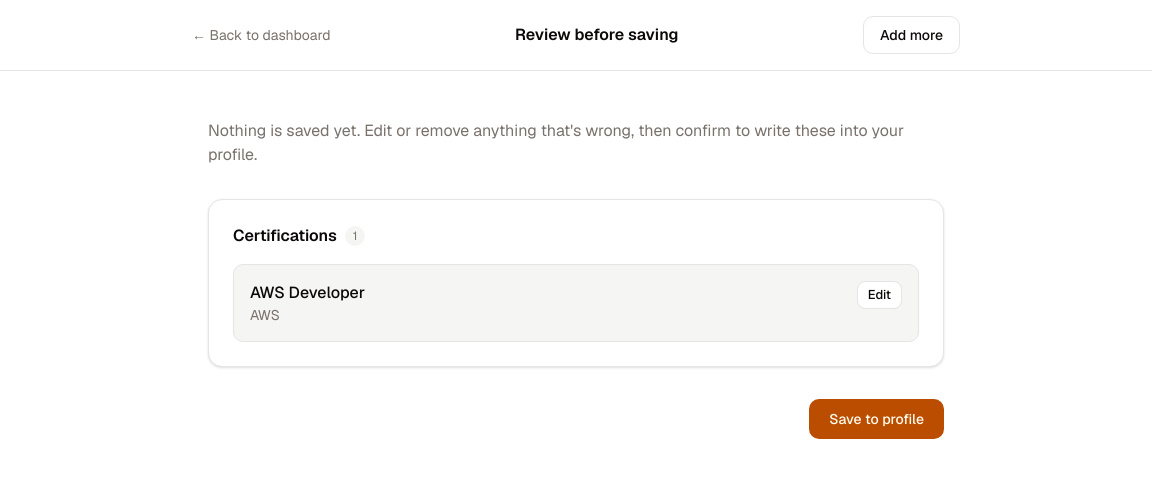
Test case: OnboardingReviewPage › shows the confirm endpoint's error message and keeps the pending entries when persisting fails
The image size is (1152, 492).
Check: the text "AWS Developer" is shown, box [250,281,365,305]
Click the button "Save to profile" at (877, 419), box [809,399,944,439]
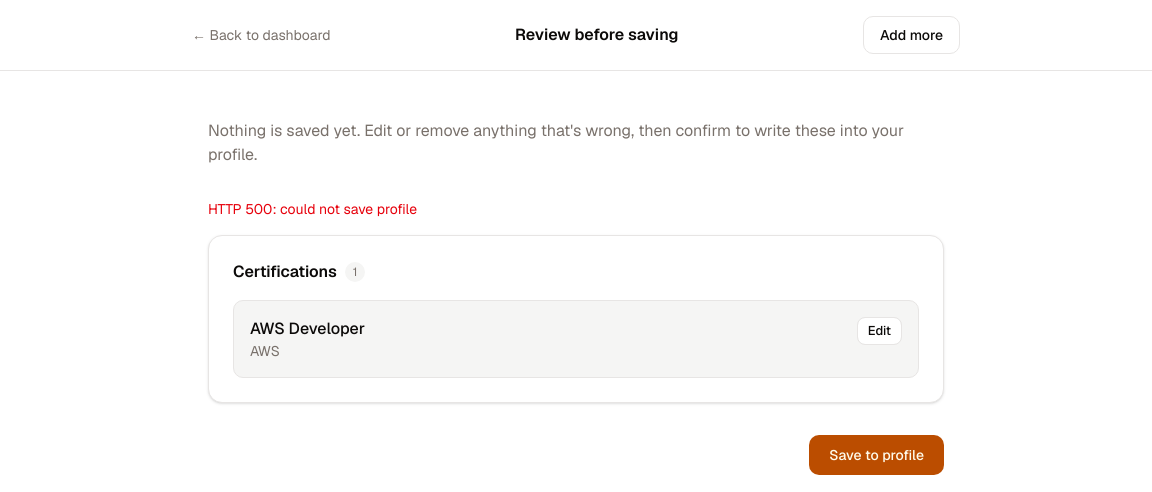
Check: the text "HTTP 500: could not save profile" is shown, box [208,200,417,218]
